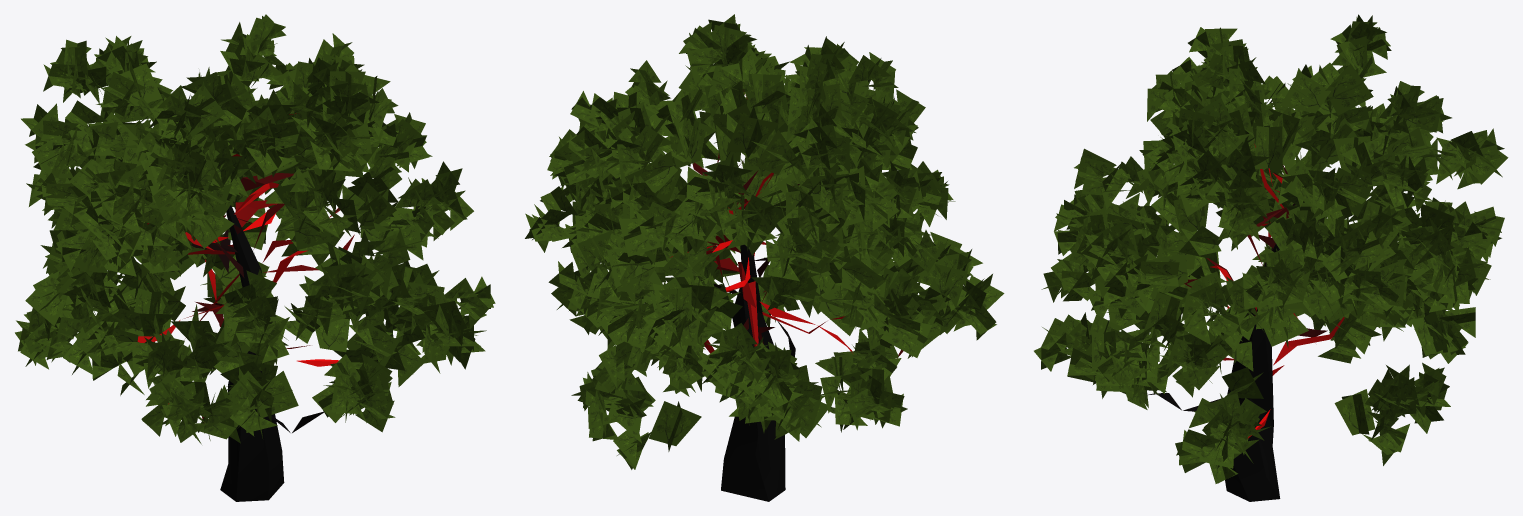
The model's file is oak7 lod2.FBX.
3 views of the same model, side by side, from view 1: azimuth 30°, elevation 25°; view 2: azimuth 150°, elevation 25°; view 3: azimuth 270°, elevation 25° (orthographic). The views are drawn at different scales.
Visible parts, largest first — view 1: oak7_LOD2; view 2: oak7_LOD2; view 3: oak7_LOD2.
Boxes of the visible parts, x1,y1,x2,y2 form: oak7_LOD2: (15, 14, 495, 501); oak7_LOD2: (525, 14, 1004, 501); oak7_LOD2: (1034, 14, 1508, 501).
Size of the model in its own units: 191042 by 201442 by 203640.
